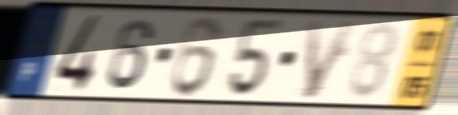4: (52, 11, 104, 96)
5: (224, 16, 285, 99)
6: (168, 12, 225, 101), (106, 17, 155, 92)
8: (347, 20, 403, 103)
V: (302, 18, 361, 102)
